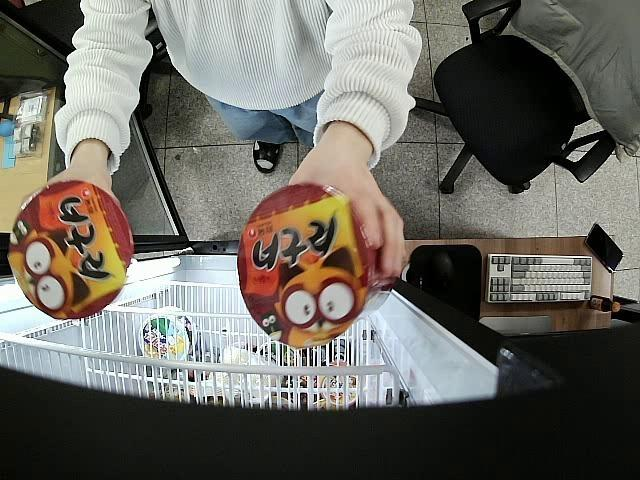05_nuguri_L: (236, 182, 394, 351), (8, 179, 132, 322)
